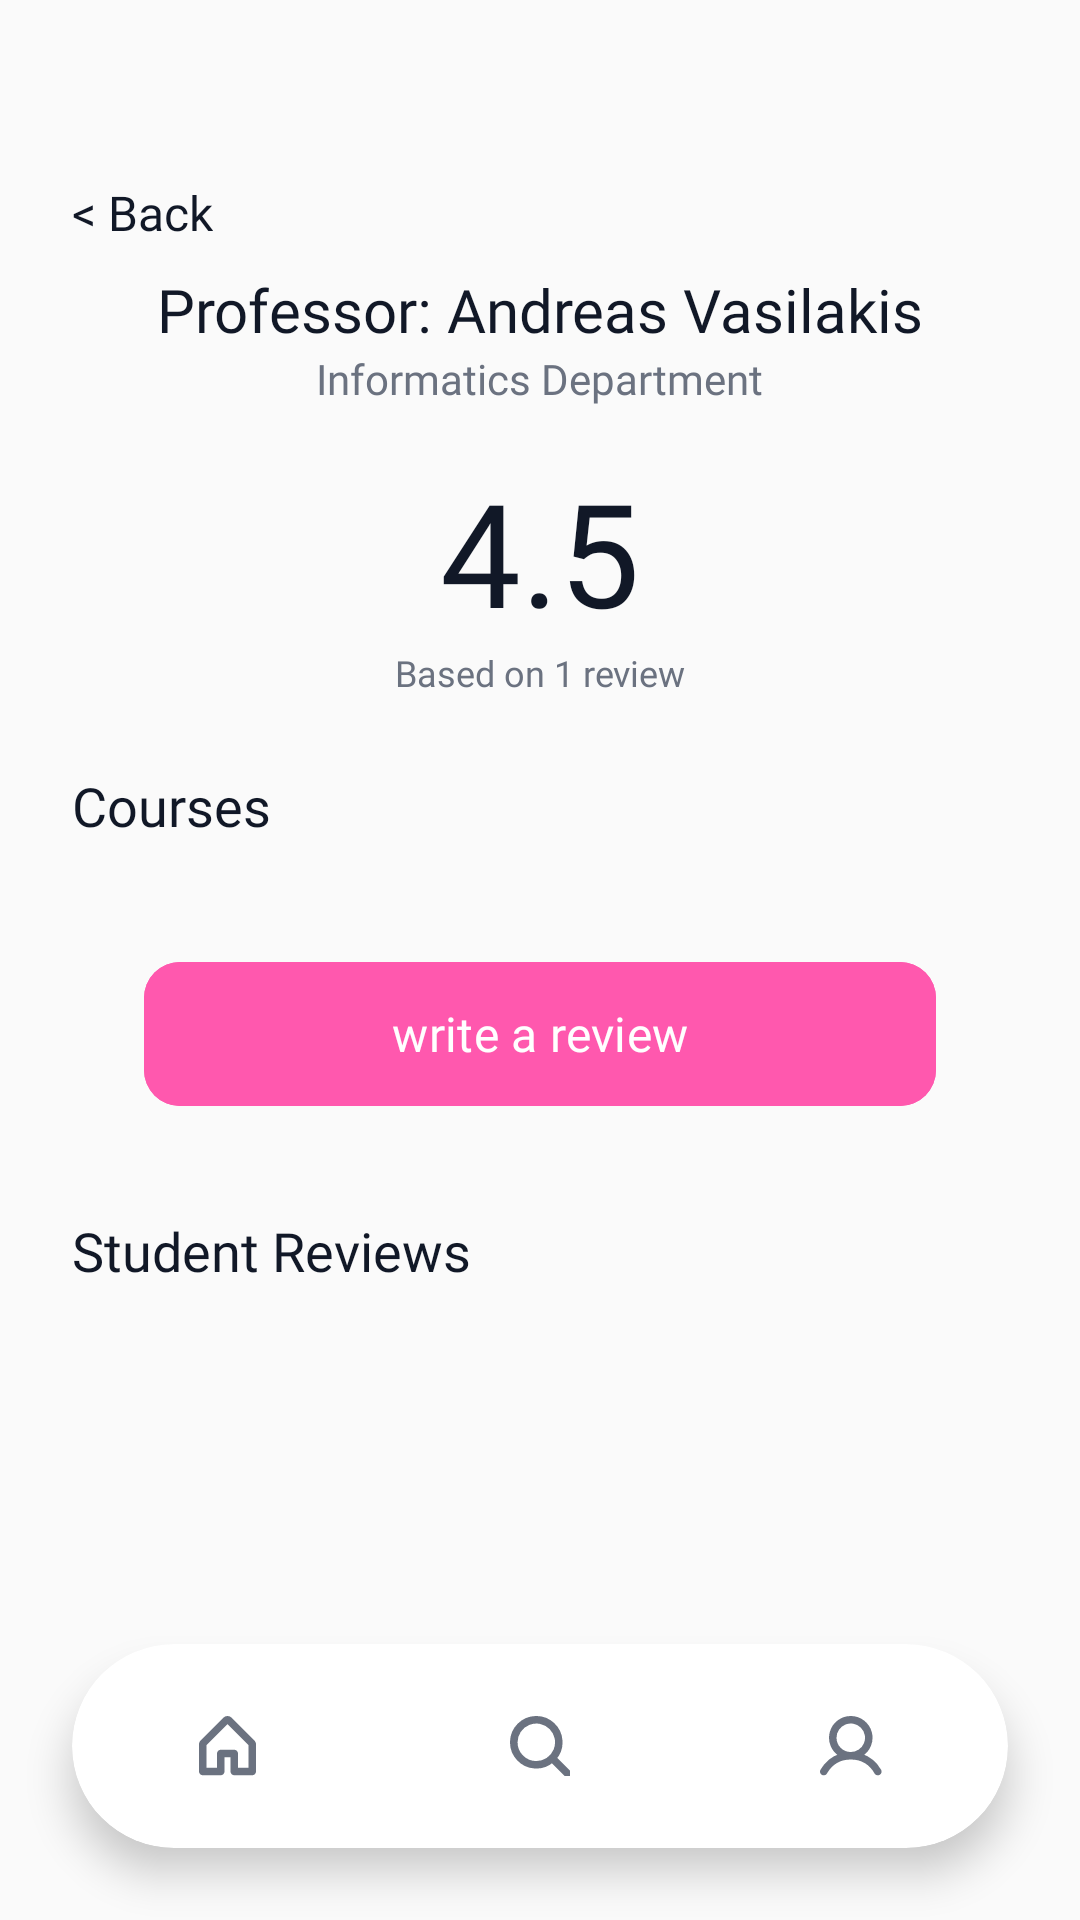

Where icons sit on this 1080 × 1920 app screen, as (x1, y1, x2, y2):
home: (199, 1716, 256, 1776)
profile: (820, 1716, 882, 1776)
search: (510, 1716, 570, 1776)
